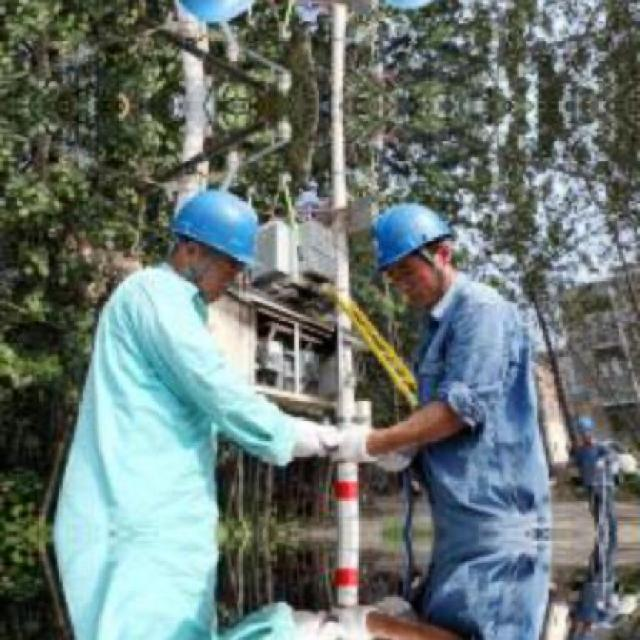helmet: (162, 176, 272, 296), (363, 192, 460, 303), (160, 0, 273, 35)
